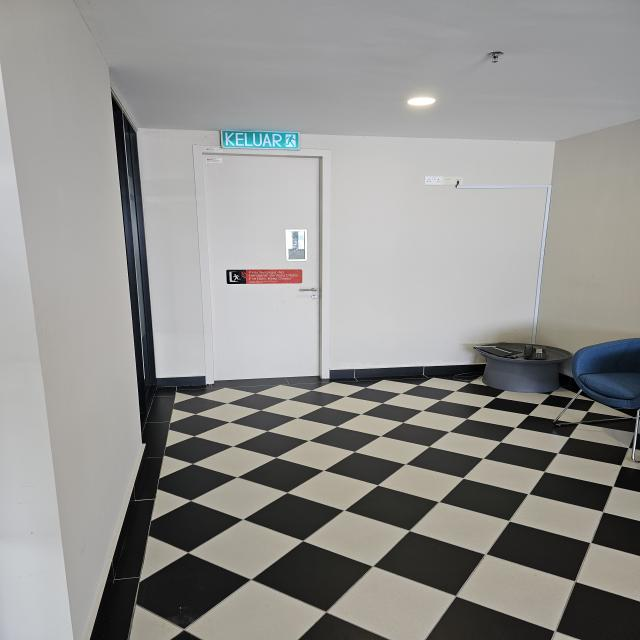footpath: (153, 414, 546, 639)
obstacle: (553, 337, 640, 448), (479, 343, 562, 401)
